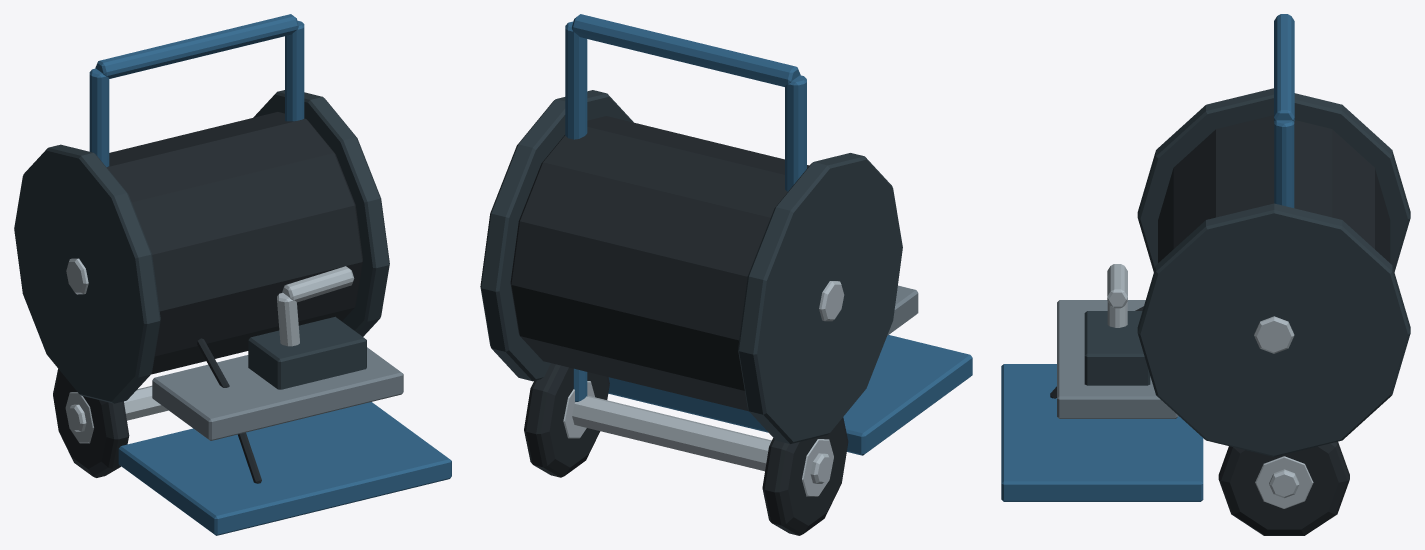
Rendered from b14_strapping_reel_and_tensioner_cart.glb.
3 views of the same model, side by side, from view 1: azimuth 30°, elevation 25°; view 2: azimuth 150°, elevation 25°; view 3: azimuth 270°, elevation 25° (orthographic). The views are drawn at different scales.
Visible parts, largest first — view 1: b14_strapping_reel_and_tensioner_cart; view 2: b14_strapping_reel_and_tensioner_cart; view 3: b14_strapping_reel_and_tensioner_cart.
Boxes of the visible parts, x1,y1,x2,y2 form: b14_strapping_reel_and_tensioner_cart: [14, 14, 451, 535]; b14_strapping_reel_and_tensioner_cart: [480, 14, 972, 535]; b14_strapping_reel_and_tensioner_cart: [1001, 14, 1410, 535].
Bounding box in the file's own units: 0.6 × 0.9136 × 0.81.
